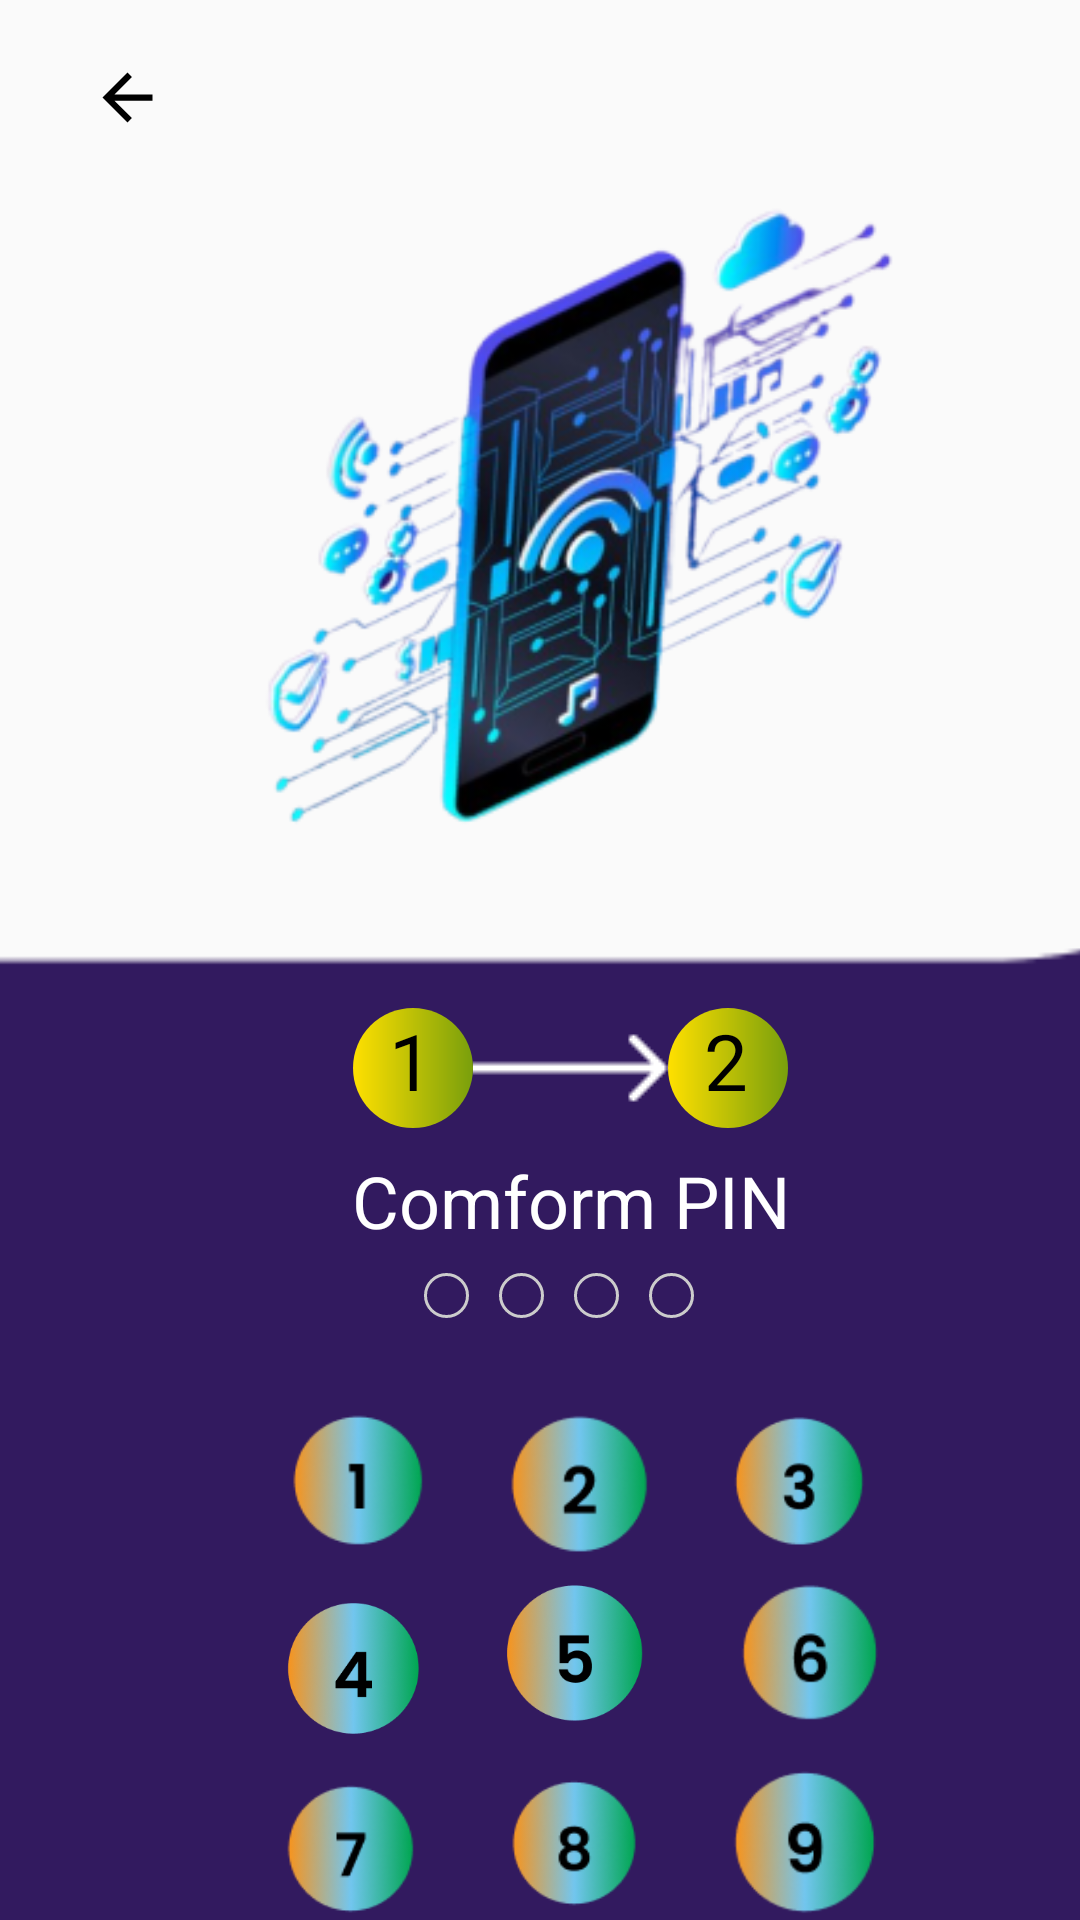

Locate icon controls on the screen. Image size 1080x1920, boxes as [x1,y1,x2,y2].
arrow back: [102,72,153,123]
whitearrow: [473,1034,668,1102]
